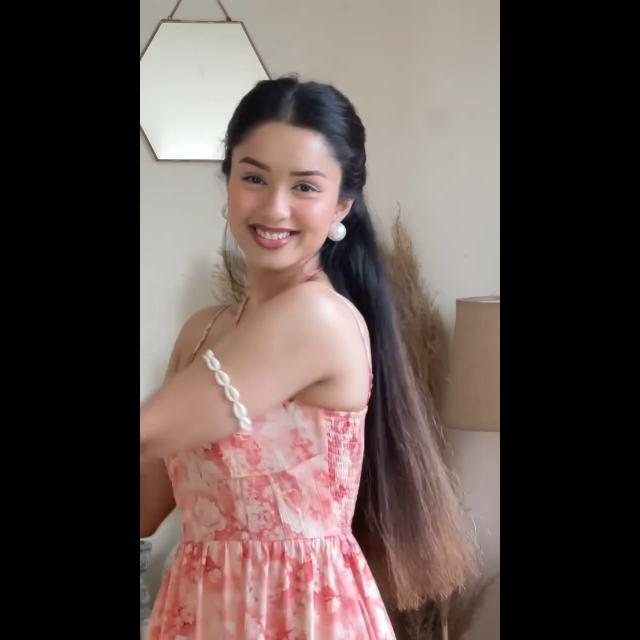dress: (172, 316, 380, 640)
ear ring: (330, 220, 350, 246), (218, 202, 232, 222)
